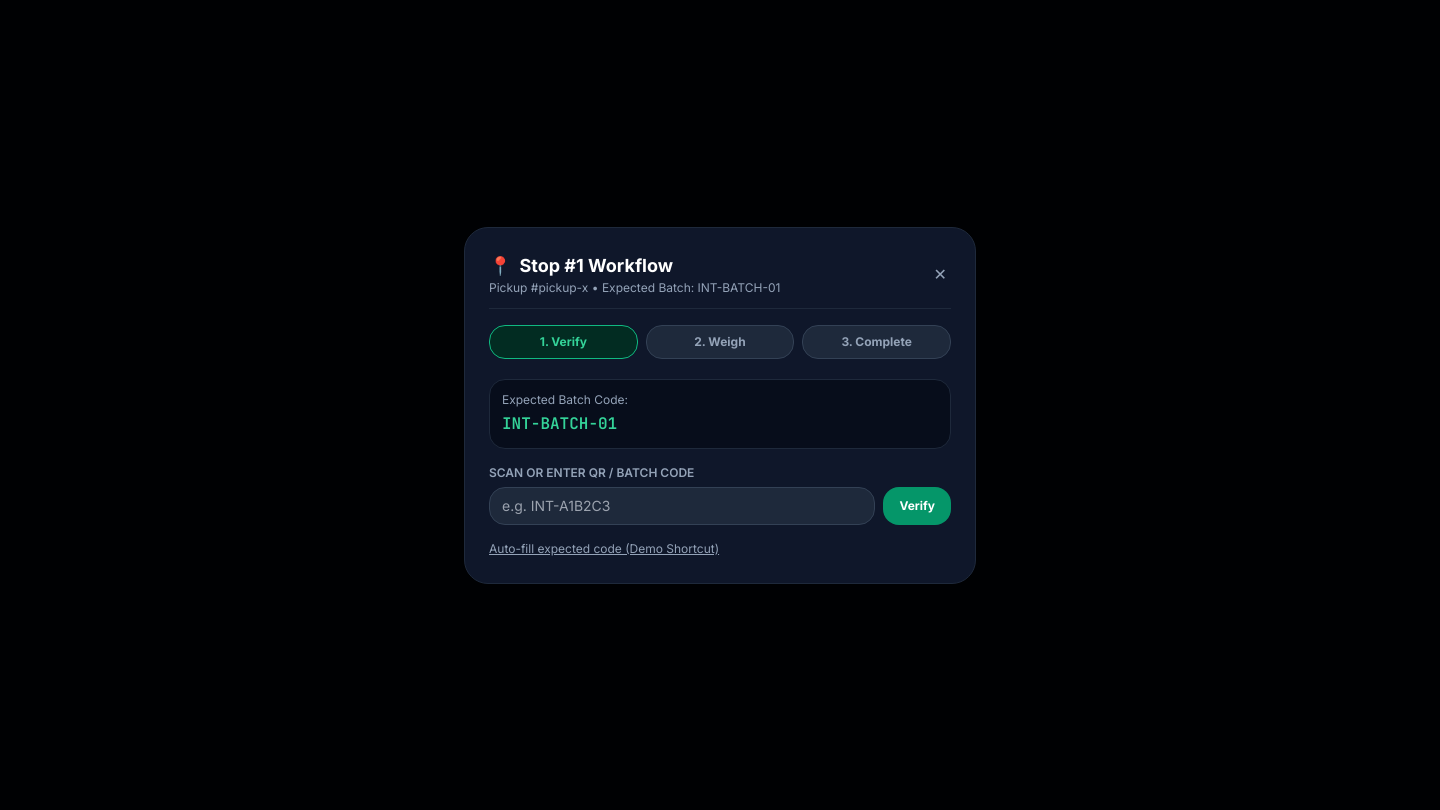
Scenario: DriverStopDetailModal Component › creates weight ticket and moves to complete tab
Switch to weigh tab
Click the button "2. Weigh" at (720, 342), box [646,324,794,358]
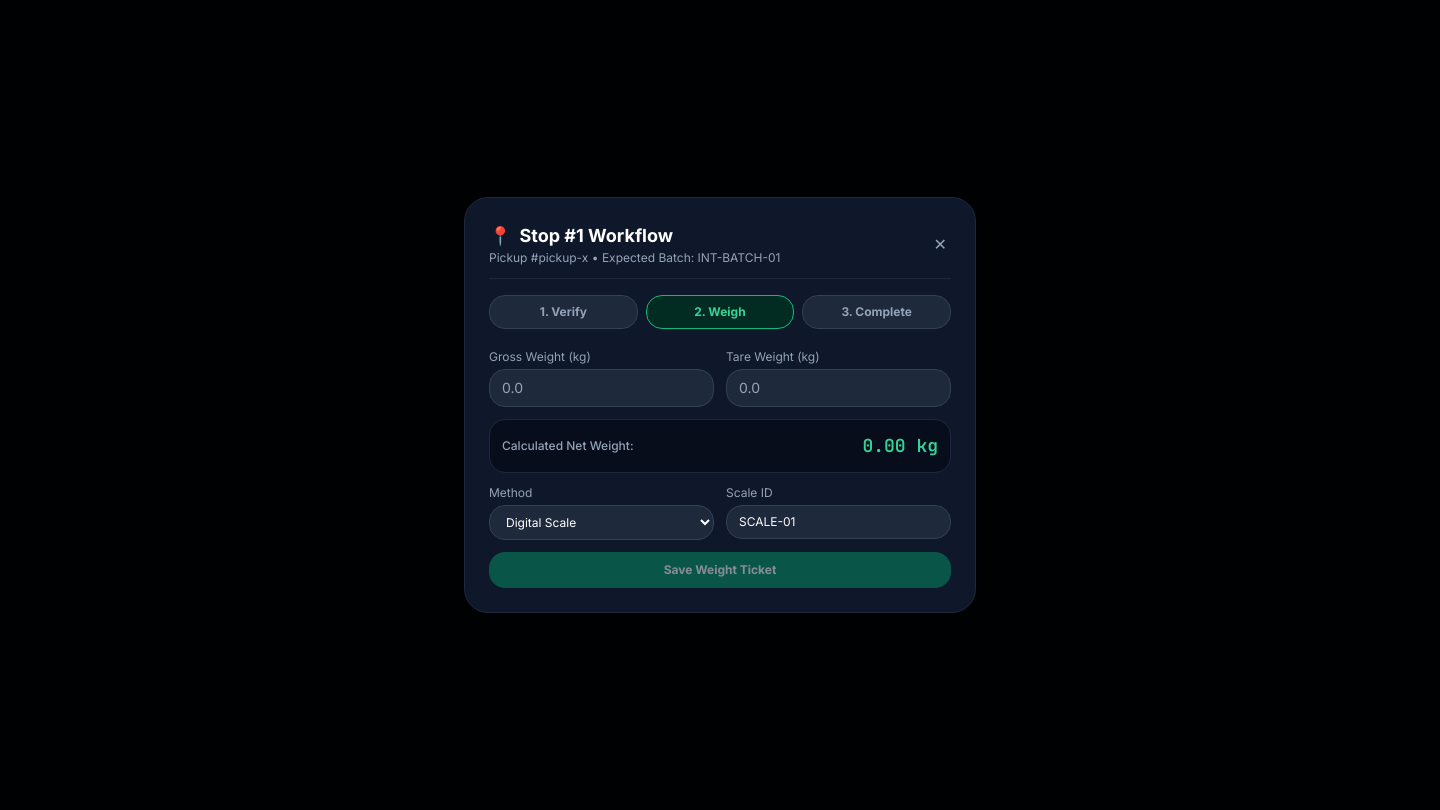
Type "300" into the number field with placeholder "0.0" below "Gross Weight (kg)" at (602, 388), box [489,369,714,407]
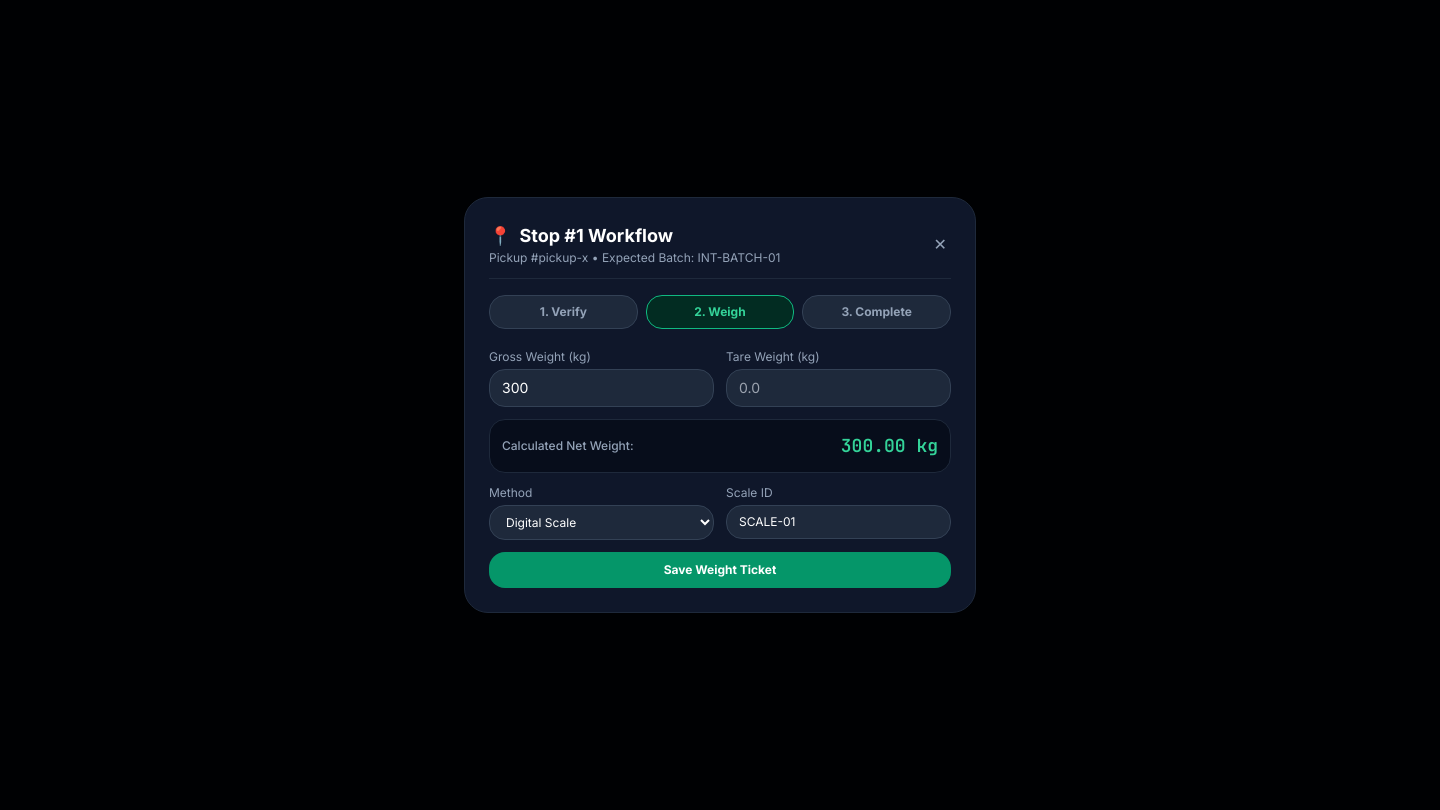
Type "50" into the number field with placeholder "0.0" at (838, 388), box [726,369,951,407]
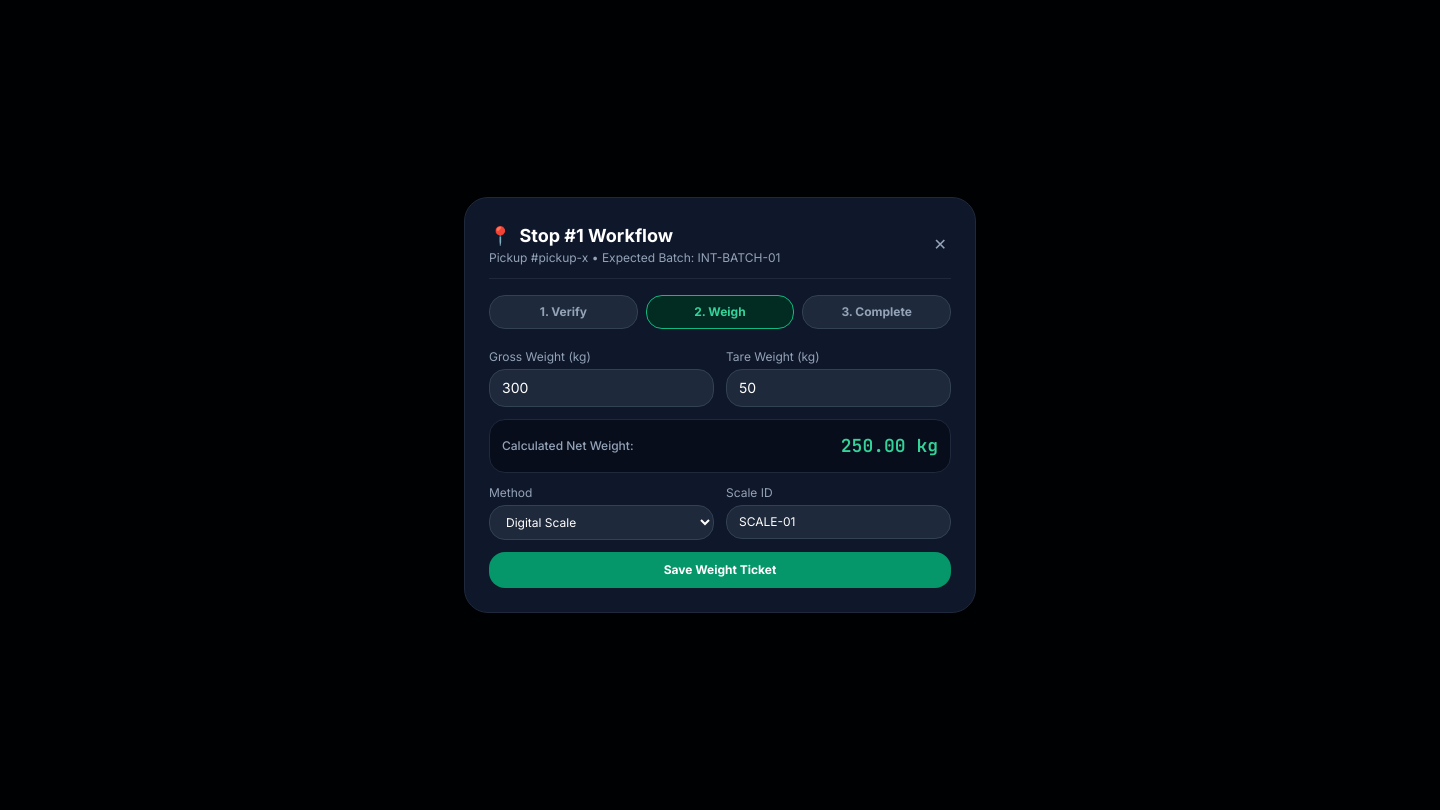
Click the button "Save Weight Ticket" at (720, 570), box [489,552,951,588]
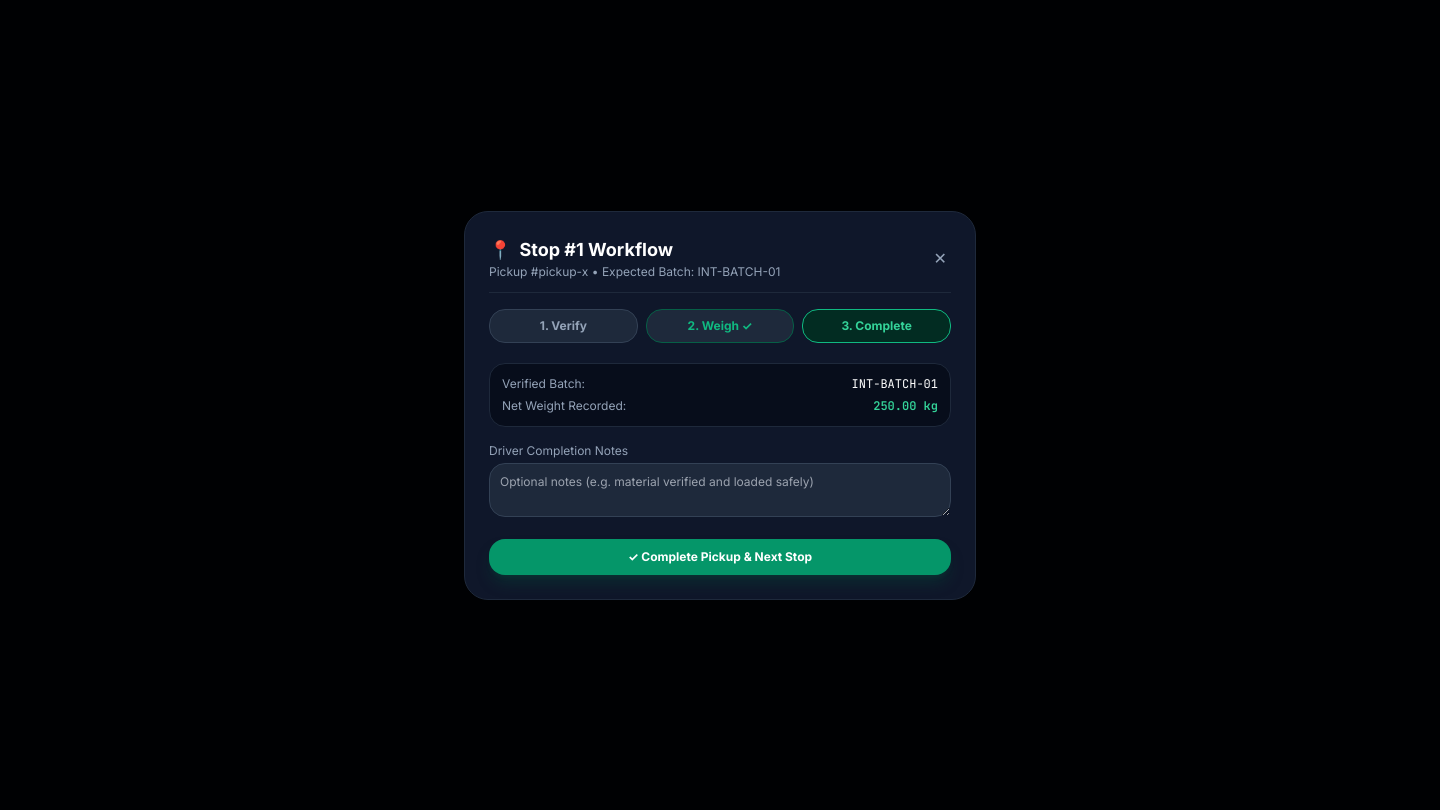
Result: the button "✓ Complete Pickup & Next Stop" is shown at [489,538,951,574]
